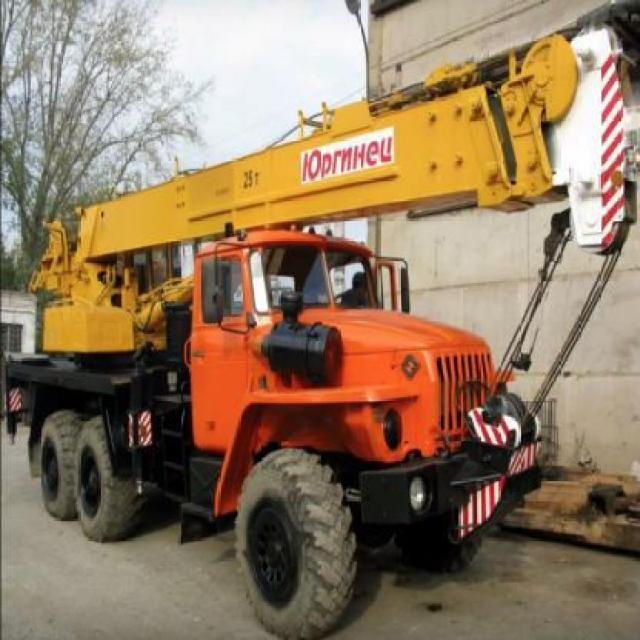Mobile Crane: (5, 27, 624, 639)
